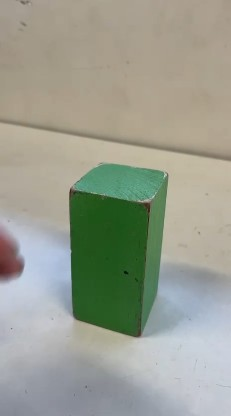green: (68, 178, 165, 321)
